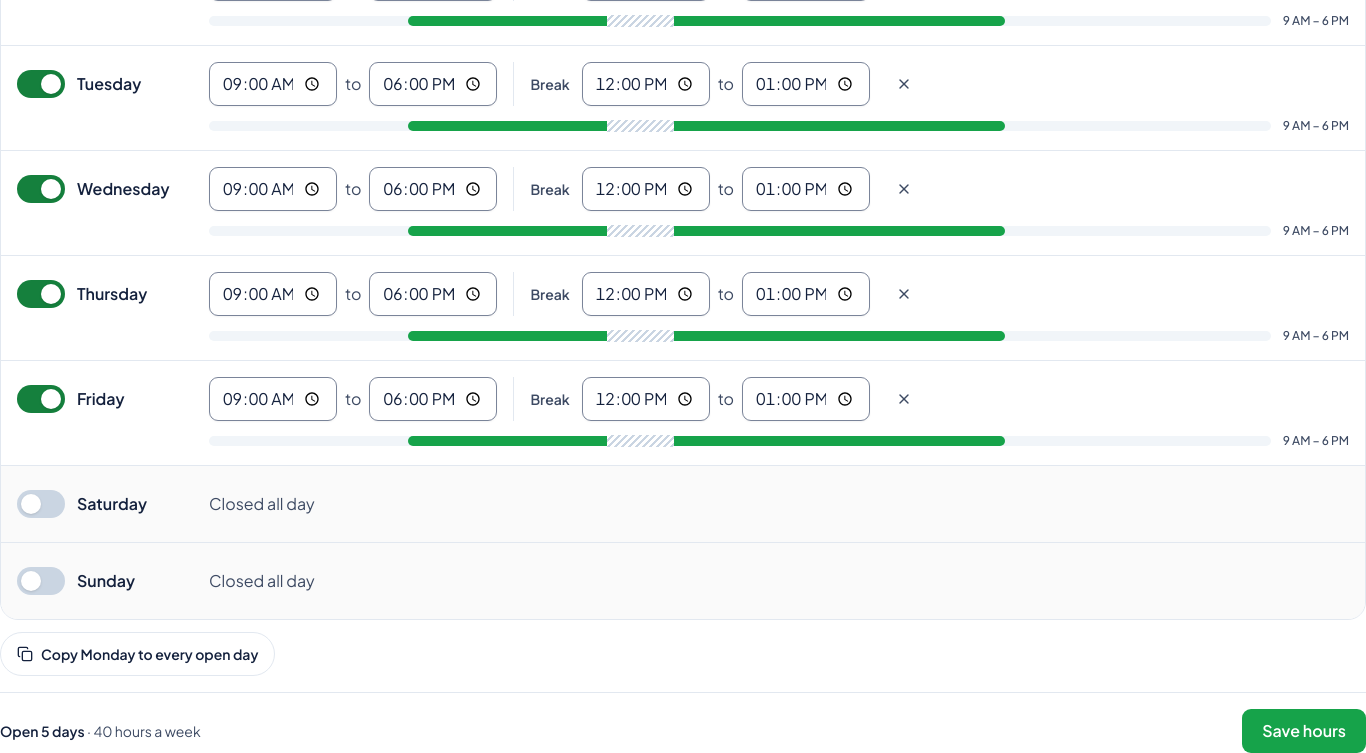
it: ShopHoursForm › shows the error message when saving fails
(page scrolled)
Click the button "Save hours": (1304,731) [1242,709,1365,752]
(page scrolled)
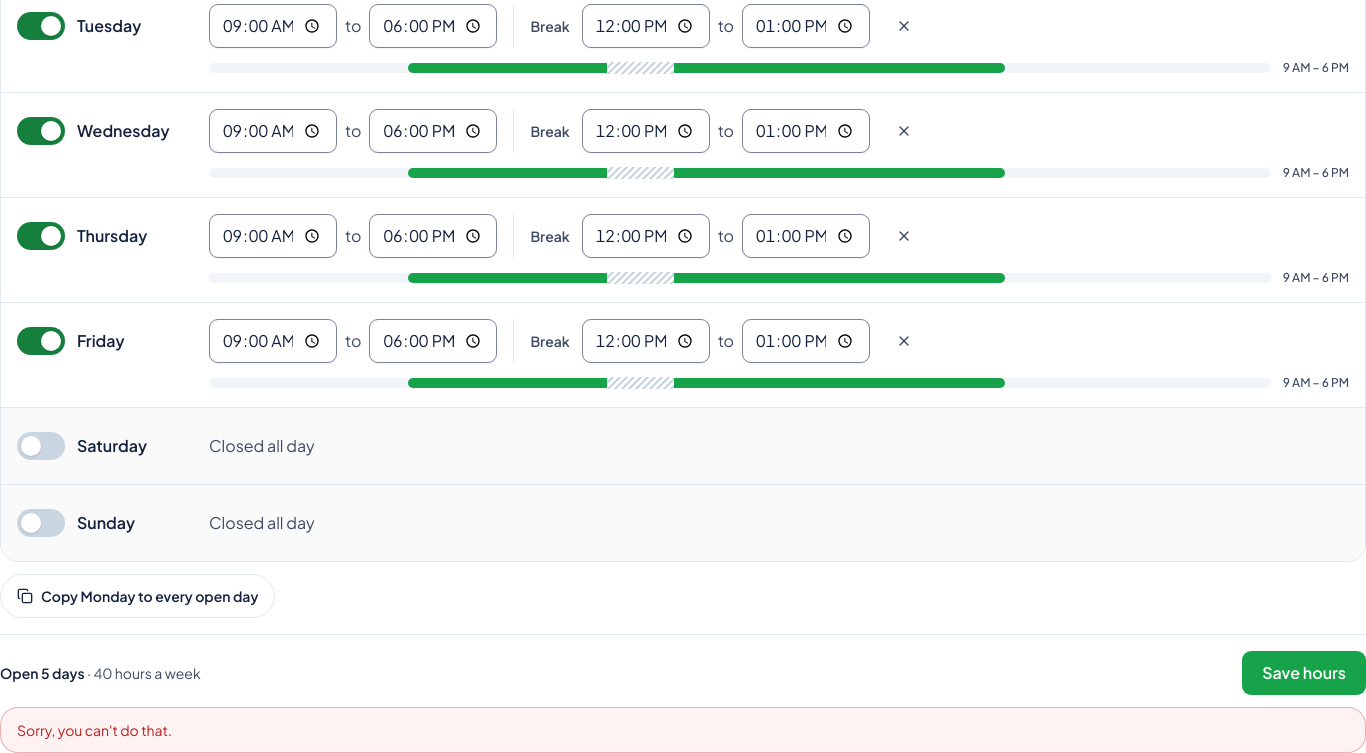
Now the message reads "Sorry, you can't do that.", box [17,721,172,739]
